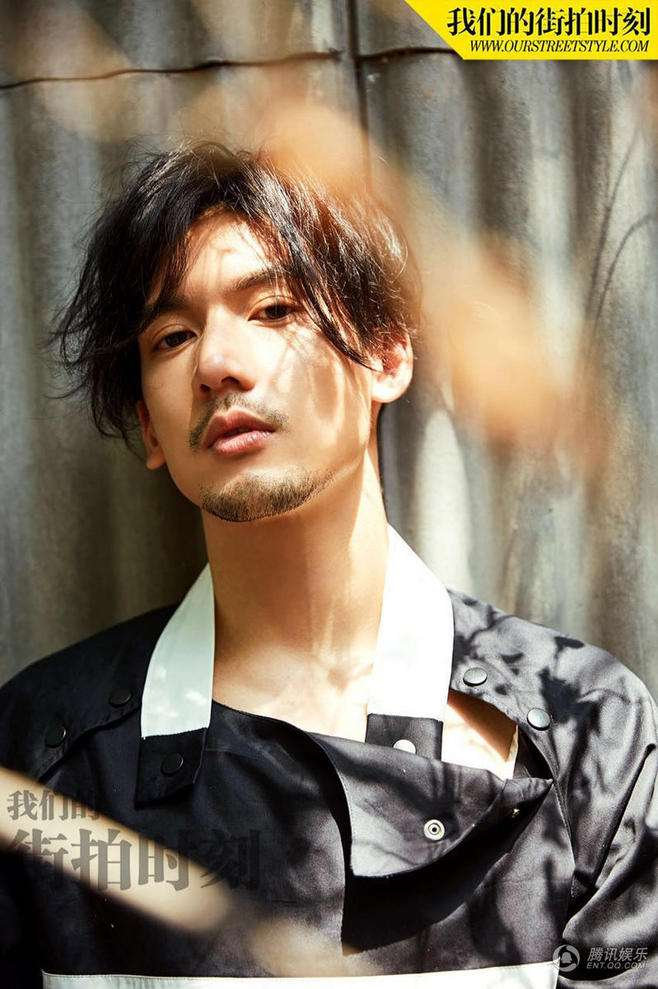person: (59, 143, 481, 939)
